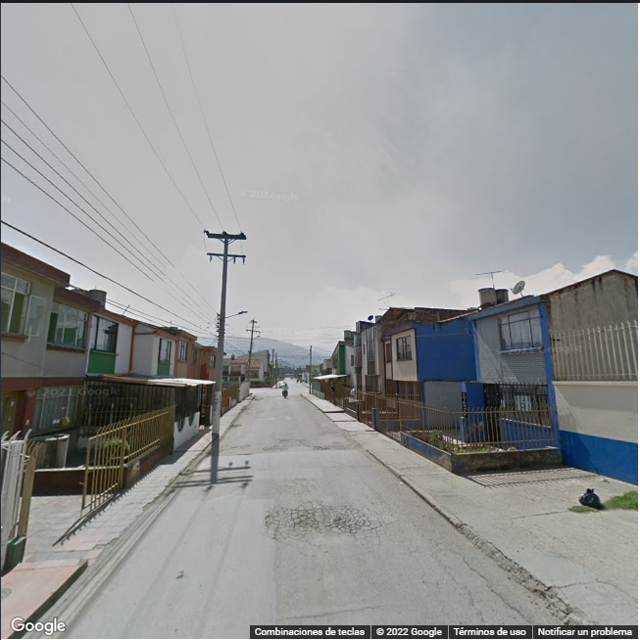D00: (444, 546, 534, 622), (425, 547, 488, 626)
D20: (264, 498, 381, 540)
